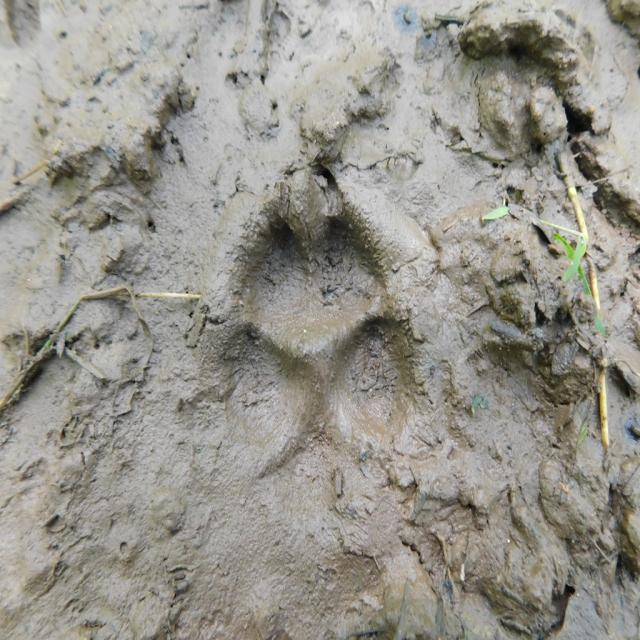canid: (210, 195, 429, 536)
